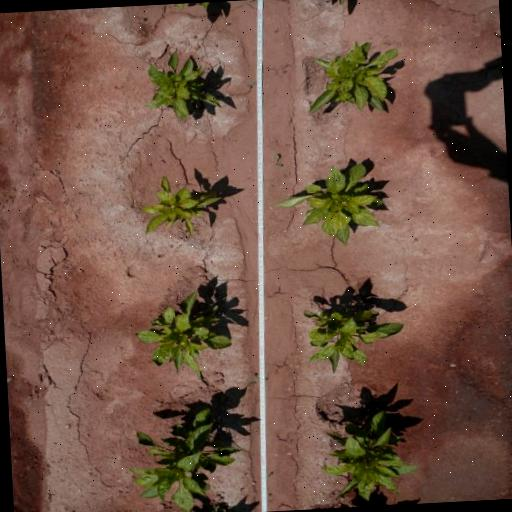plant: (129, 399, 252, 512), (317, 402, 429, 508), (131, 284, 238, 385), (270, 160, 386, 250), (300, 34, 407, 122), (300, 300, 411, 378), (138, 43, 228, 126), (135, 168, 228, 246)
weed: (208, 501, 233, 512), (244, 372, 260, 388), (272, 152, 284, 168), (245, 79, 257, 91), (266, 470, 274, 478), (272, 27, 279, 34), (224, 21, 231, 26)
